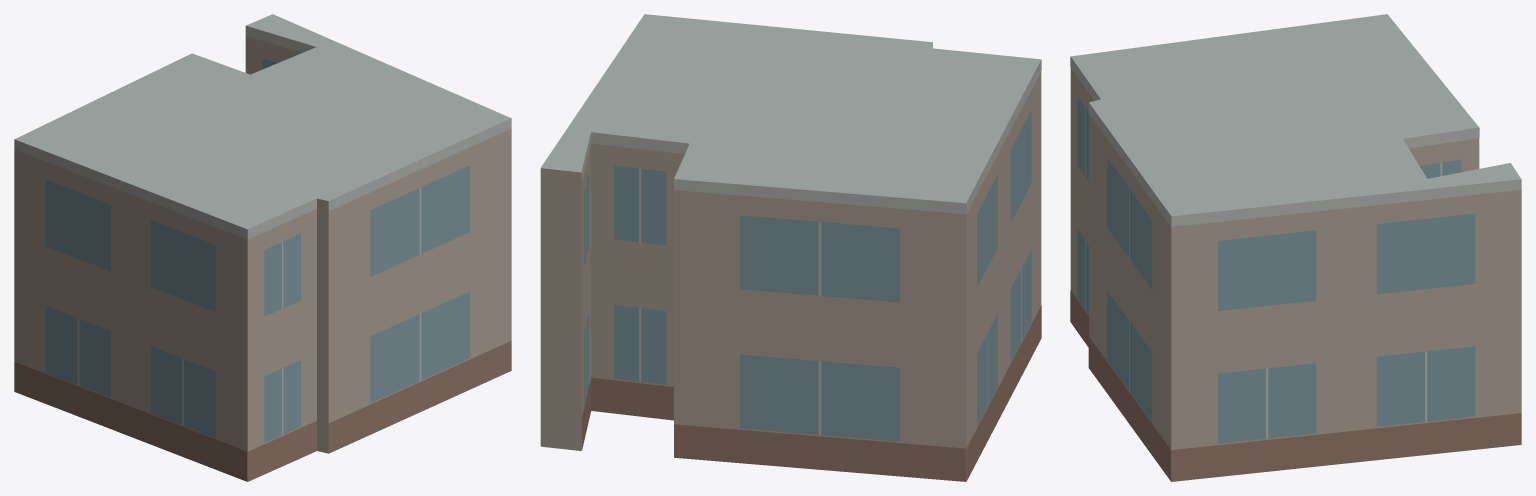
Rendered from survey-upis-32516758.glb.
3 renders of one model, left to right at view 1: azimuth 30°, elevation 25°; view 2: azimuth 150°, elevation 25°; view 3: azimuth 270°, elevation 25°, orthographic. The views are drawn at different scales.
Parts seen in each view (by area): view 1: survey-upis-32516758.tmp; view 2: survey-upis-32516758.tmp; view 3: survey-upis-32516758.tmp.
Boxes of the visible parts, box(x1,y1,x2,y2) form: survey-upis-32516758.tmp: box(14, 14, 511, 481); survey-upis-32516758.tmp: box(540, 14, 1041, 481); survey-upis-32516758.tmp: box(1070, 14, 1521, 481).
Size of the model in its own units: 9.98 by 6.1 by 9.4.
